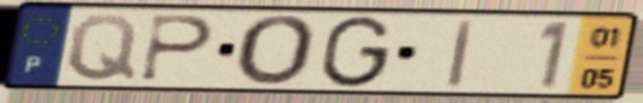1: (535, 19, 571, 93)
G: (315, 13, 397, 91)
I: (443, 17, 478, 91)
O: (233, 12, 321, 89)
P: (135, 12, 219, 85)
Q: (64, 12, 141, 84)
